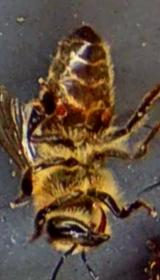varroa_mite: (45, 93, 69, 124), (94, 96, 112, 130)
